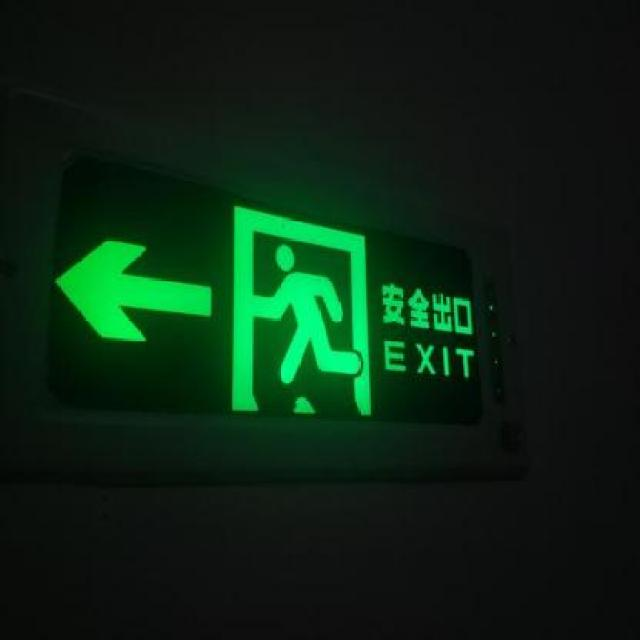exit_sign: (34, 117, 538, 480)
